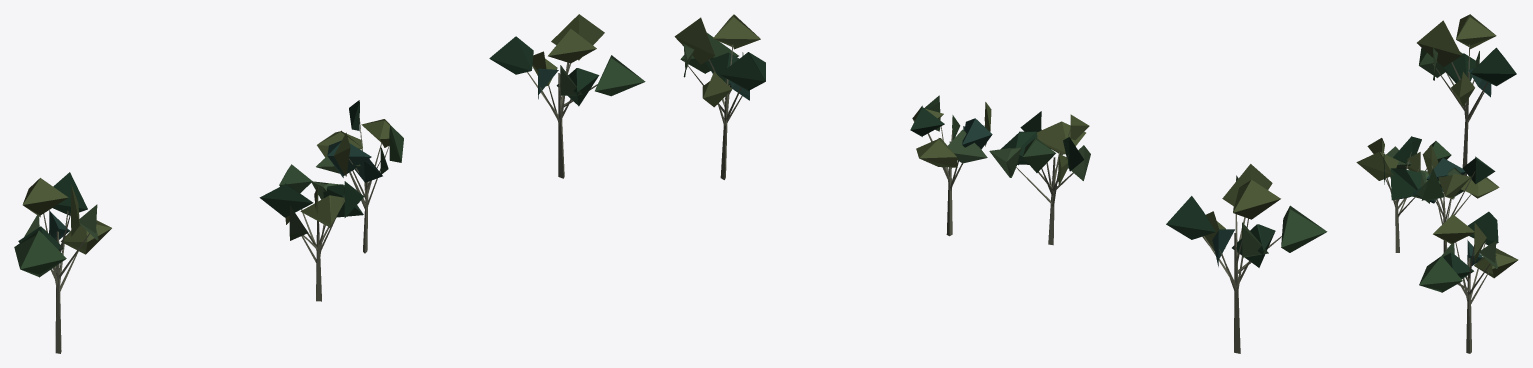
Rendered from forest_17_27.dae.
3 renders of one model, left to right at view 1: azimuth 30°, elevation 25°; view 2: azimuth 150°, elevation 25°; view 3: azimuth 270°, elevation 25°, orthographic. The views are drawn at different scales.
Parts seen in each view (by area): view 1: Node; view 2: Node; view 3: Node.
Part boxes in pixels (x1,y1,x2,y2): Node: [14, 14, 645, 353]; Node: [674, 14, 1327, 353]; Node: [1356, 14, 1518, 353].
Size of the model in its own units: 10.38 by 2.63 by 3.29.
